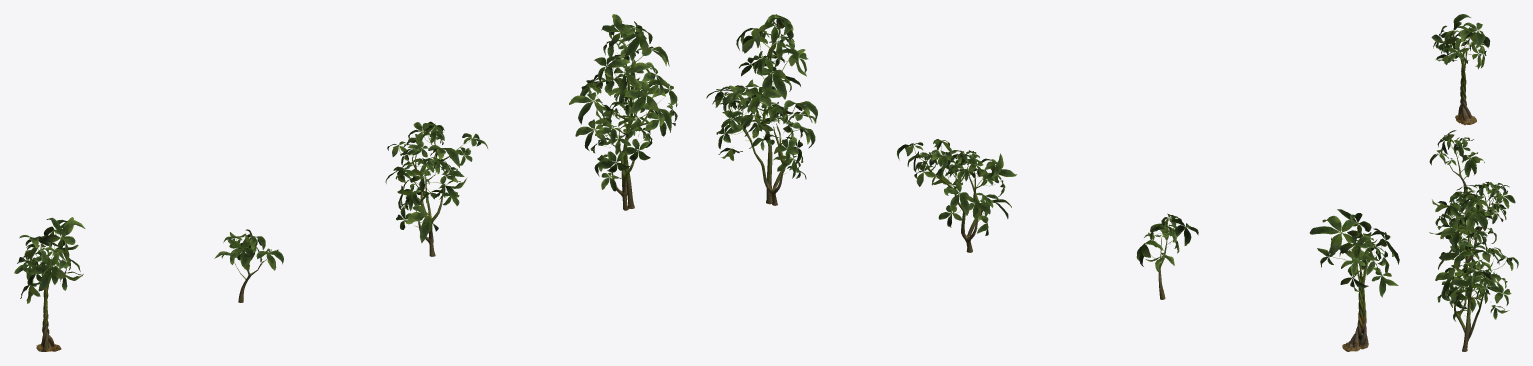
Rendered from folhagem1.glb.
3 views of the same model, side by side, from view 1: azimuth 30°, elevation 25°; view 2: azimuth 150°, elevation 25°; view 3: azimuth 270°, elevation 25° (orthographic). The views are drawn at different scales.
Visible parts, largest first — view 1: pachira_aquatica_01_leaves_d, pachira_aquatica_01_leaves_c, pachira_aquatica_01_leaves_a, pachira_aquatica_01_leaves_b, pachira_aquatica_01_bark_d, pachira_aquatica_01_bark_c, pachira_aquatica_01_bark_a; view 2: pachira_aquatica_01_leaves_d, pachira_aquatica_01_leaves_c, pachira_aquatica_01_leaves_a, pachira_aquatica_01_leaves_b, pachira_aquatica_01_bark_d, pachira_aquatica_01_bark_a, pachira_aquatica_01_bark_c; view 3: pachira_aquatica_01_leaves_d, pachira_aquatica_01_leaves_c, pachira_aquatica_01_leaves_a, pachira_aquatica_01_leaves_b, pachira_aquatica_01_bark_d, pachira_aquatica_01_bark_a, pachira_aquatica_01_bark_c, pachira_aquatica_01_bark_b.
Boxes of the visible parts, bbox=[...] form: pachira_aquatica_01_leaves_d: bbox=[569, 14, 677, 191]; pachira_aquatica_01_leaves_c: bbox=[385, 121, 487, 243]; pachira_aquatica_01_leaves_a: bbox=[14, 217, 85, 303]; pachira_aquatica_01_leaves_b: bbox=[214, 229, 283, 279]; pachira_aquatica_01_bark_d: bbox=[595, 44, 652, 210]; pachira_aquatica_01_bark_c: bbox=[409, 137, 457, 256]; pachira_aquatica_01_bark_a: bbox=[36, 265, 61, 351]; pachira_aquatica_01_leaves_d: bbox=[706, 14, 817, 179]; pachira_aquatica_01_leaves_c: bbox=[897, 139, 1016, 235]; pachira_aquatica_01_leaves_a: bbox=[1309, 209, 1399, 297]; pachira_aquatica_01_leaves_b: bbox=[1136, 213, 1198, 274]; pachira_aquatica_01_bark_d: bbox=[728, 44, 792, 205]; pachira_aquatica_01_bark_a: bbox=[1342, 259, 1368, 351]; pachira_aquatica_01_bark_c: bbox=[923, 159, 985, 252]; pachira_aquatica_01_leaves_d: bbox=[1429, 190, 1518, 321]; pachira_aquatica_01_leaves_c: bbox=[1432, 181, 1515, 244]; pachira_aquatica_01_leaves_a: bbox=[1431, 14, 1490, 69]; pachira_aquatica_01_leaves_b: bbox=[1429, 130, 1484, 179]; pachira_aquatica_01_bark_d: bbox=[1454, 219, 1492, 351]; pachira_aquatica_01_bark_a: bbox=[1455, 50, 1476, 125]; pachira_aquatica_01_bark_c: bbox=[1453, 190, 1497, 268]; pachira_aquatica_01_bark_b: bbox=[1449, 149, 1467, 195].
Size of the model in its own units: 6.87 by 1.9 by 0.997.
Materials: 2 (2 with a texture image).
